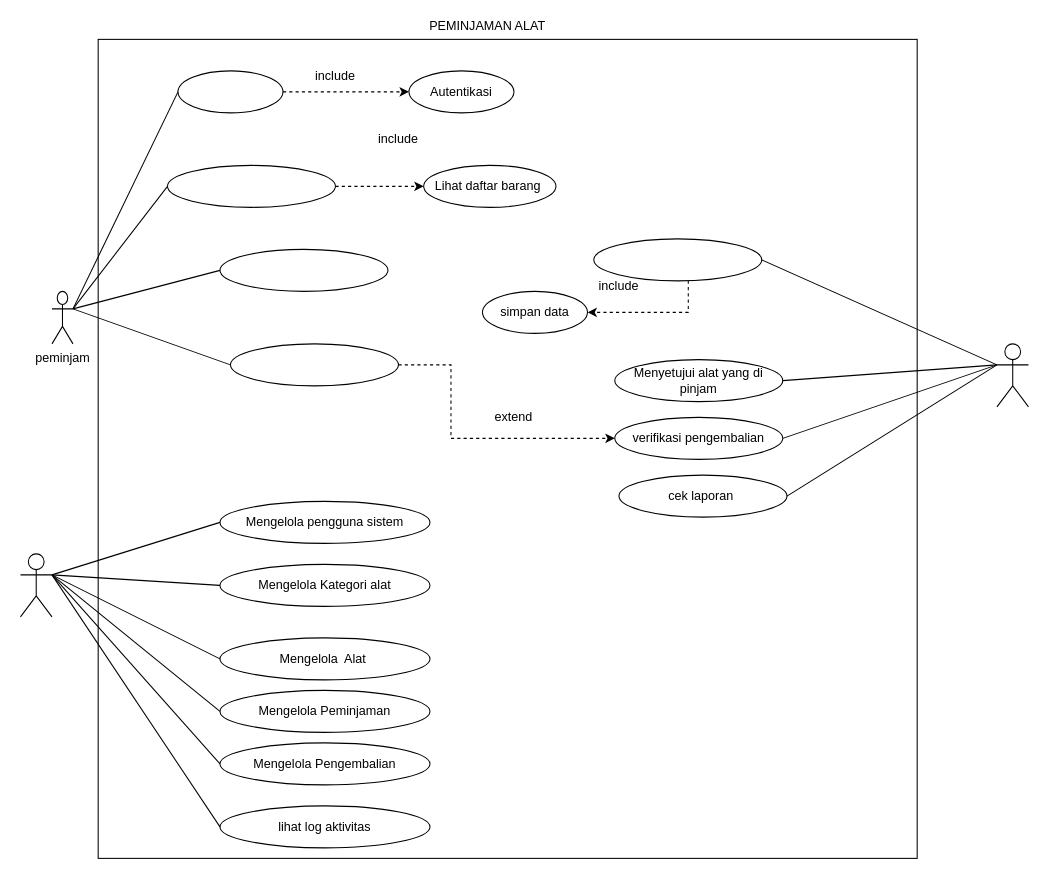
Some shapes in this 1053 by 877 pixel diagram are drawn without their labels. The centre of each missing label's shape, as x and y in pixels:
"Admin" belongs at pixel 35 585.
"Ajukan peminjam alat" belongs at pixel 250 185.
"Bayar denda keterlambatan/kerusakan" belongs at pixel 313 364.
"Lihat riwayat peminjam" belongs at pixel 303 269.
"Login" belongs at pixel 230 91.
"Pencatatan pengajuan dan transaksi" belongs at pixel 677 259.
"Petugas" belongs at pixel 1012 375.
